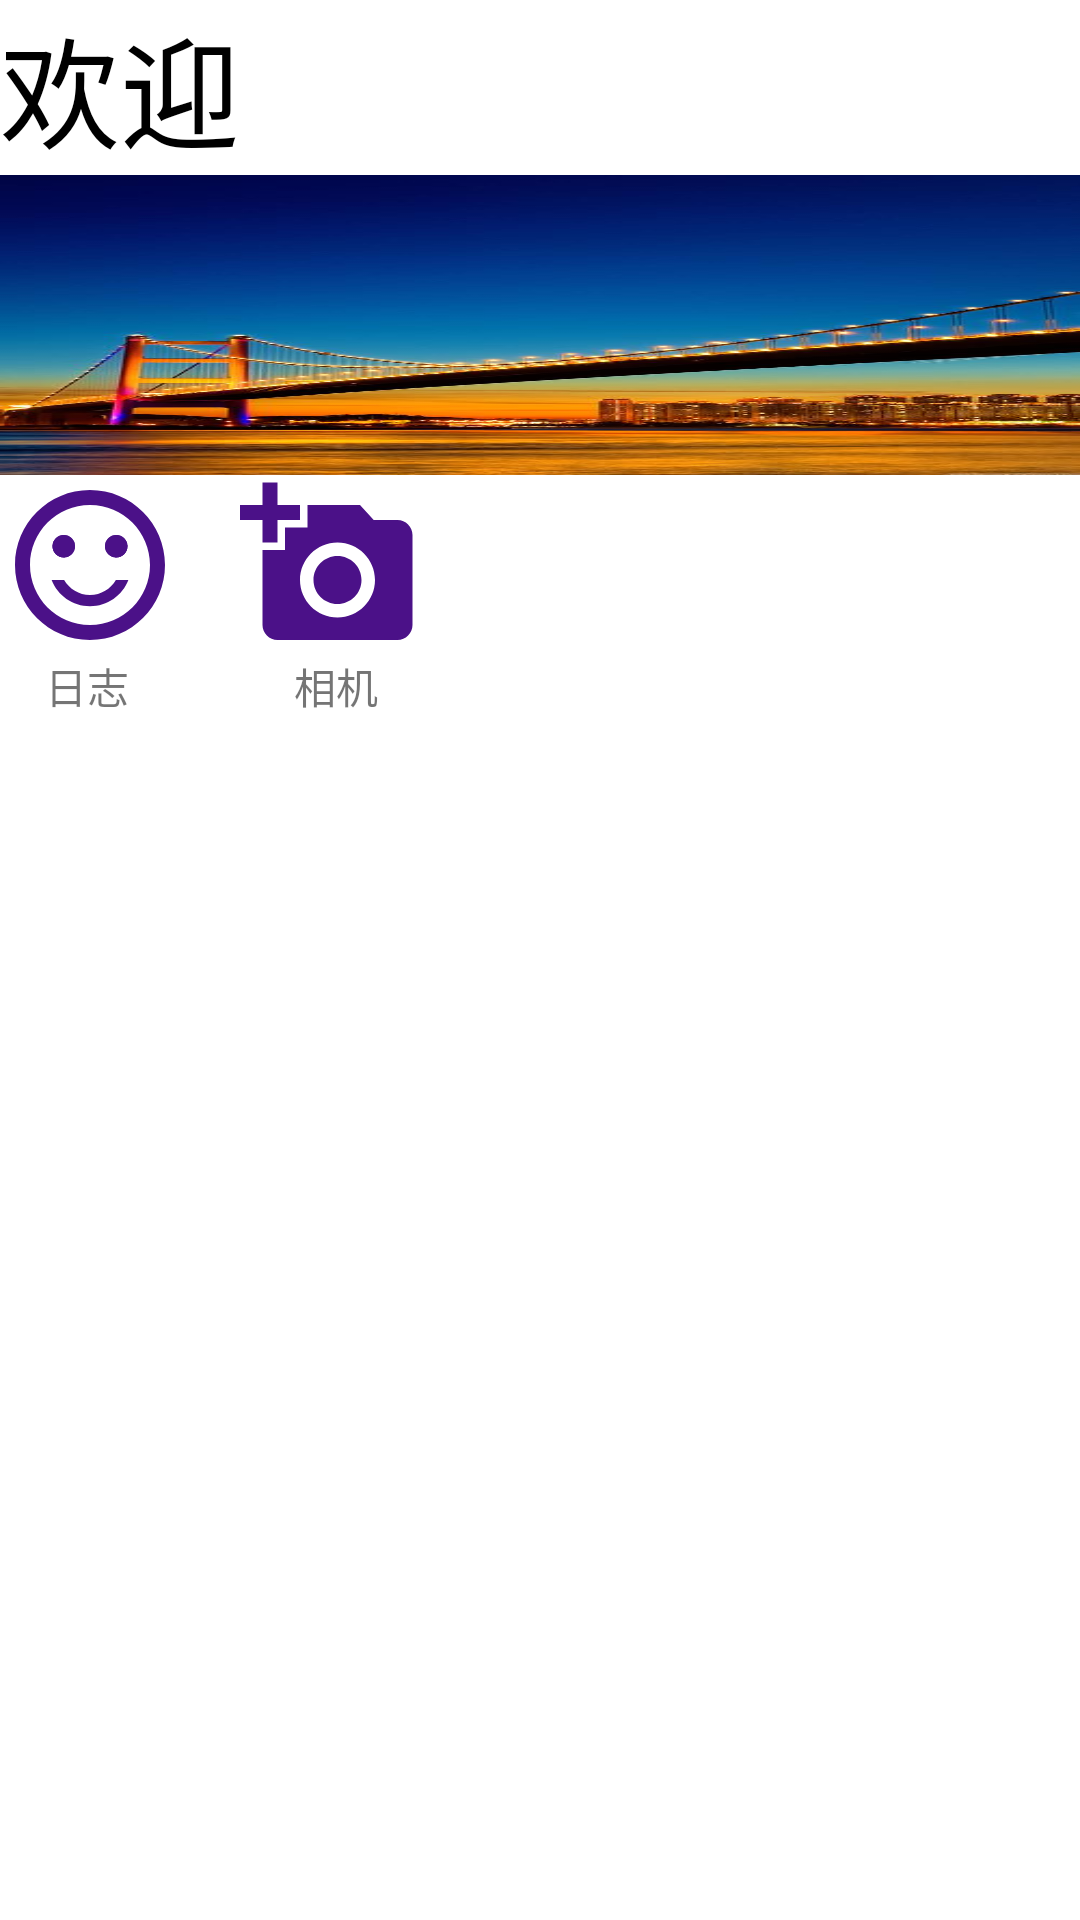

Named icons in this screenshot (1080px x 1920px) and their bounding boxes, (x1, y1, x2, y2):
add photo: (240, 482, 413, 640)
sentiment satisfied: (15, 490, 165, 640)
